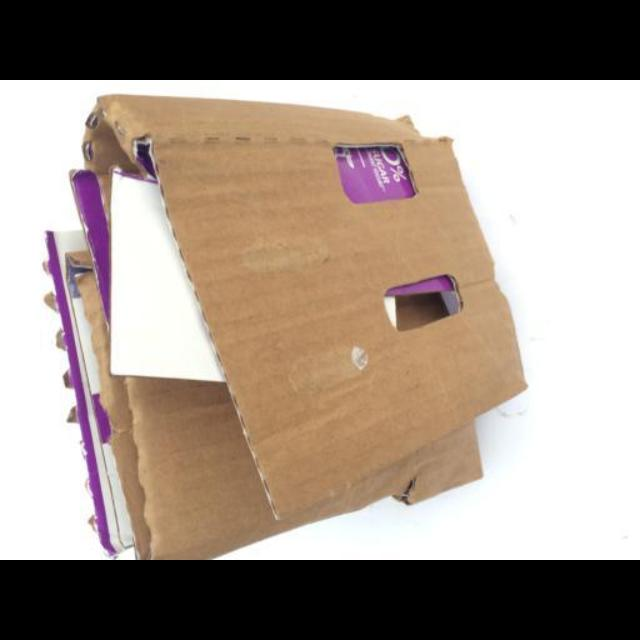papelão: (43, 95, 529, 560)
